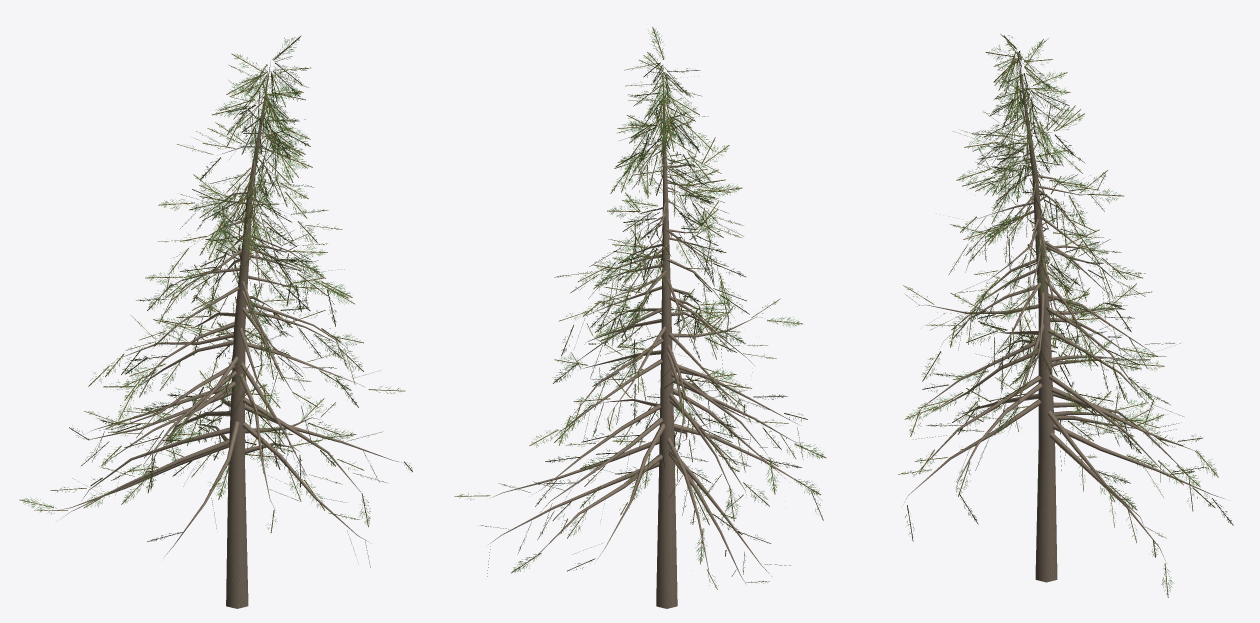
Rendered from conifer-lod1.glb.
3 views of the same model, side by side, from view 1: azimuth 30°, elevation 25°; view 2: azimuth 150°, elevation 25°; view 3: azimuth 270°, elevation 25° (orthographic). The views are drawn at different scales.
Visible parts, largest first — view 1: SM_AtlasEzConifer; view 2: SM_AtlasEzConifer; view 3: SM_AtlasEzConifer.
Part boxes in pixels (x1,y1,x2,y2): SM_AtlasEzConifer: [19, 36, 412, 608]; SM_AtlasEzConifer: [454, 27, 826, 608]; SM_AtlasEzConifer: [898, 34, 1233, 597].
Size of the model in its own units: 9.9 by 15.89 by 9.34.
2 materials, 2 textured.
